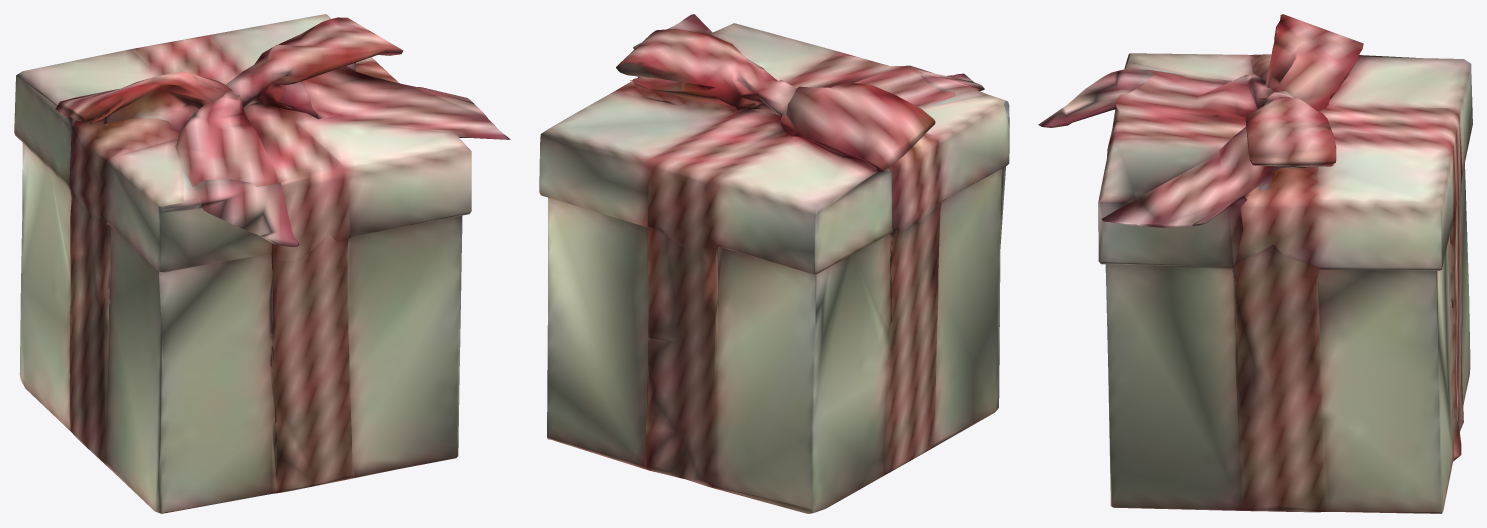
File: KS_Chocolate_Cube_Box_Assortment_By_Neuhaus_2010_Ounces-medium.glb
3 views of the same model, side by side, from view 1: azimuth 30°, elevation 25°; view 2: azimuth 150°, elevation 25°; view 3: azimuth 270°, elevation 25° (orthographic). The views are drawn at different scales.
Parts seen in each view (by area): view 1: KS_Chocolate_Cube_Box_Assortment_By_Neuhaus_2010_Ounces; view 2: KS_Chocolate_Cube_Box_Assortment_By_Neuhaus_2010_Ounces; view 3: KS_Chocolate_Cube_Box_Assortment_By_Neuhaus_2010_Ounces.
Part boxes in pixels (x1=…): KS_Chocolate_Cube_Box_Assortment_By_Neuhaus_2010_Ounces: x1=14, y1=14, x2=510, y2=513; KS_Chocolate_Cube_Box_Assortment_By_Neuhaus_2010_Ounces: x1=539, y1=14, x2=1009, y2=513; KS_Chocolate_Cube_Box_Assortment_By_Neuhaus_2010_Ounces: x1=1038, y1=14, x2=1472, y2=513.
Bounding box in the file's own units: 0.1701 × 0.1719 × 0.1841.
1 material, 1 textured.
